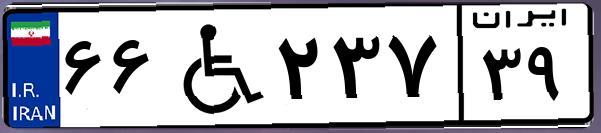2: (270, 28, 330, 110)
3: (330, 28, 385, 110), (475, 38, 525, 113)
6: (57, 26, 110, 100), (110, 28, 158, 98)
7: (385, 28, 445, 110)
9: (525, 38, 570, 115)
ژ (معلولین و جانبازان): (158, 12, 270, 120)
